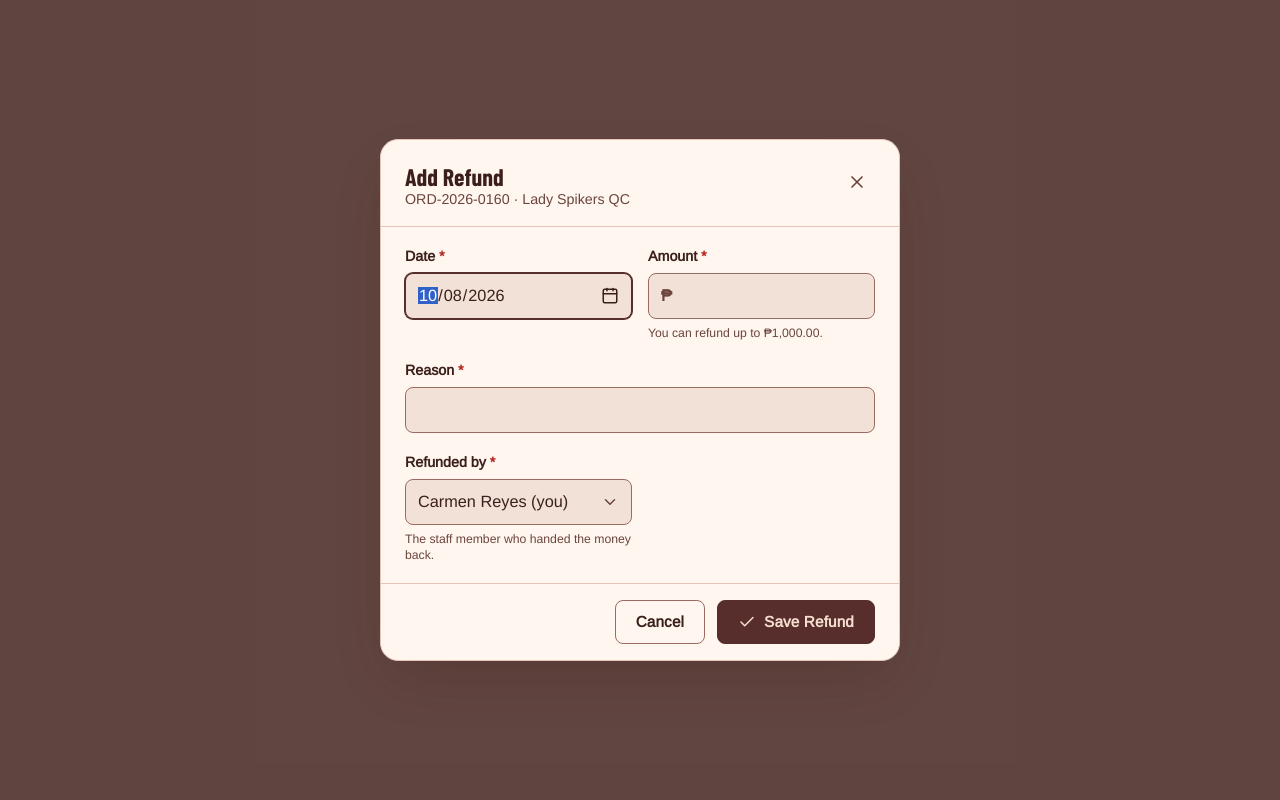
Test: add mode saving (ORD-18 idempotency) › toasts "Refund added" with the customer credit from the answer (D-05)
Type "400" into the field labelled "Amount *" at [773, 296], box [672, 274, 874, 318]
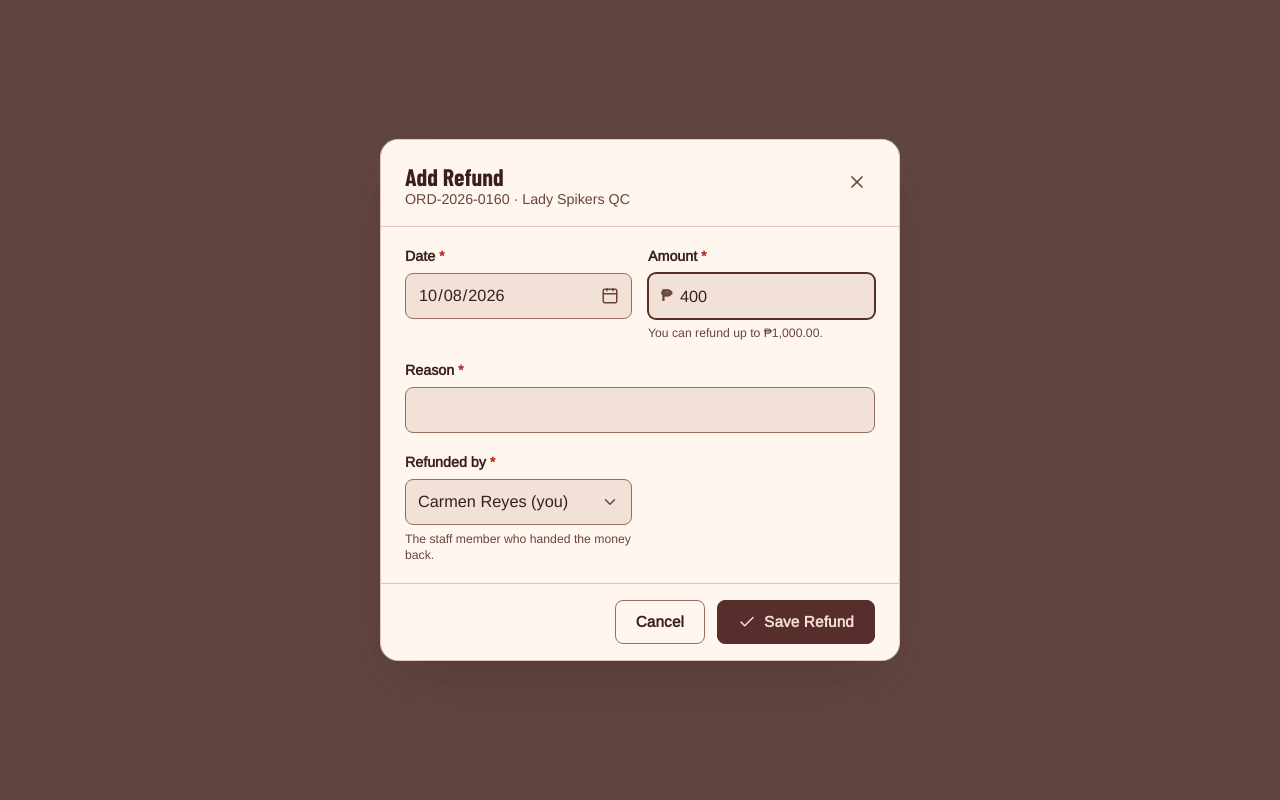
Type "Customer changed the order" into the field labelled "Reason *" at [640, 410], box [406, 388, 874, 432]
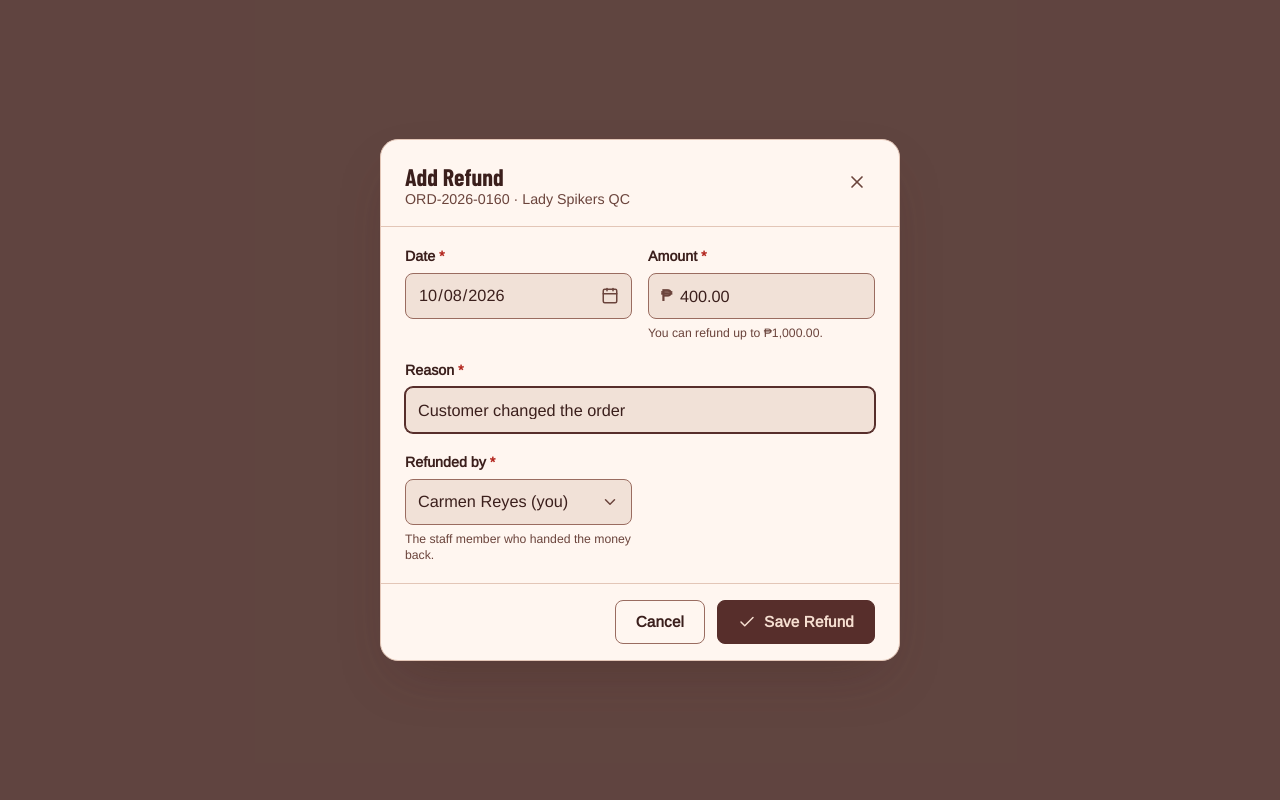
Click the button "Save Refund" at [796, 622], box [717, 600, 875, 644]
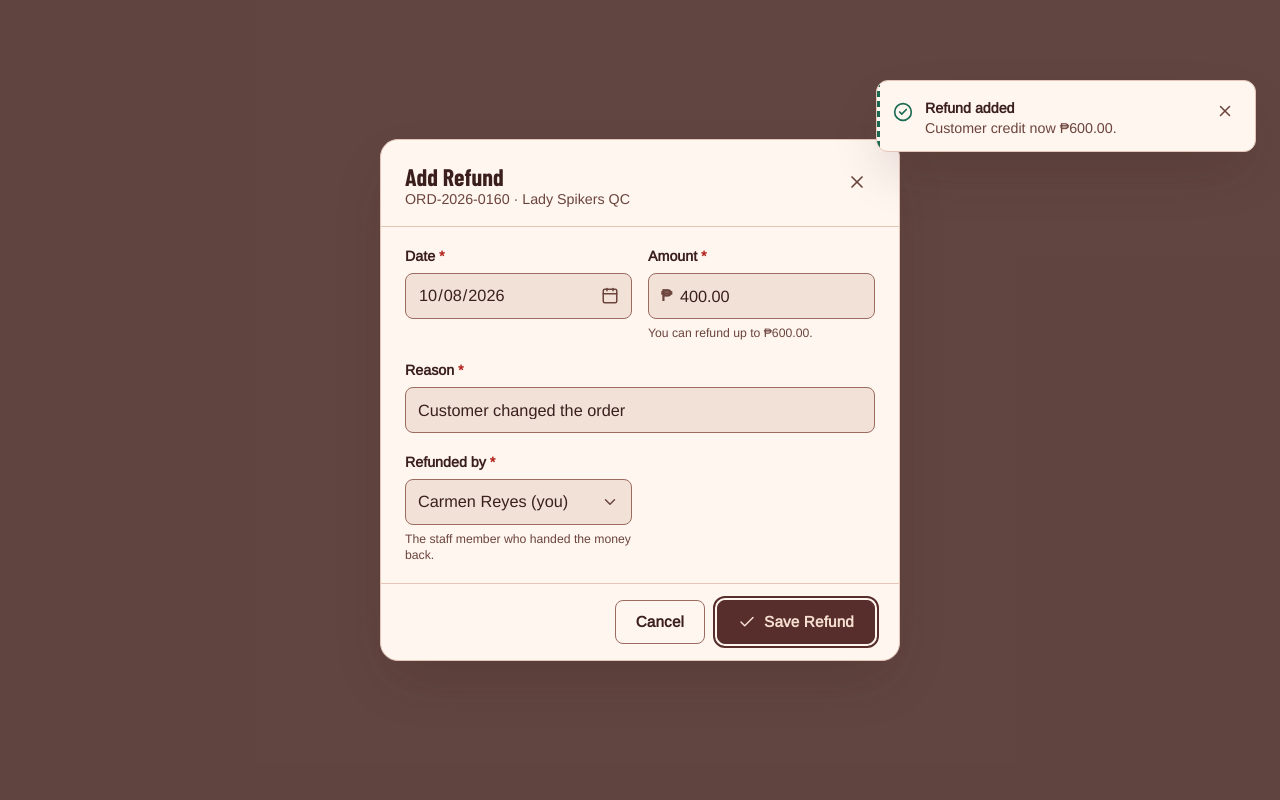
Expected: the text "Refund added" is shown, [925, 101, 1014, 116]
Expected: the text "Customer credit now ₱600.00." is shown, [925, 121, 1117, 136]
